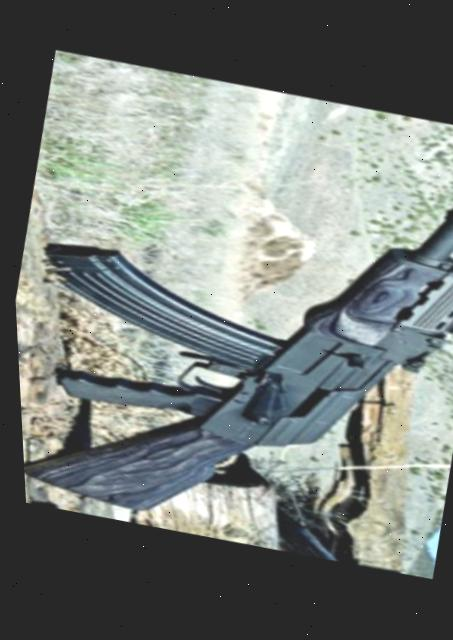rifle: (2, 47, 453, 576)
